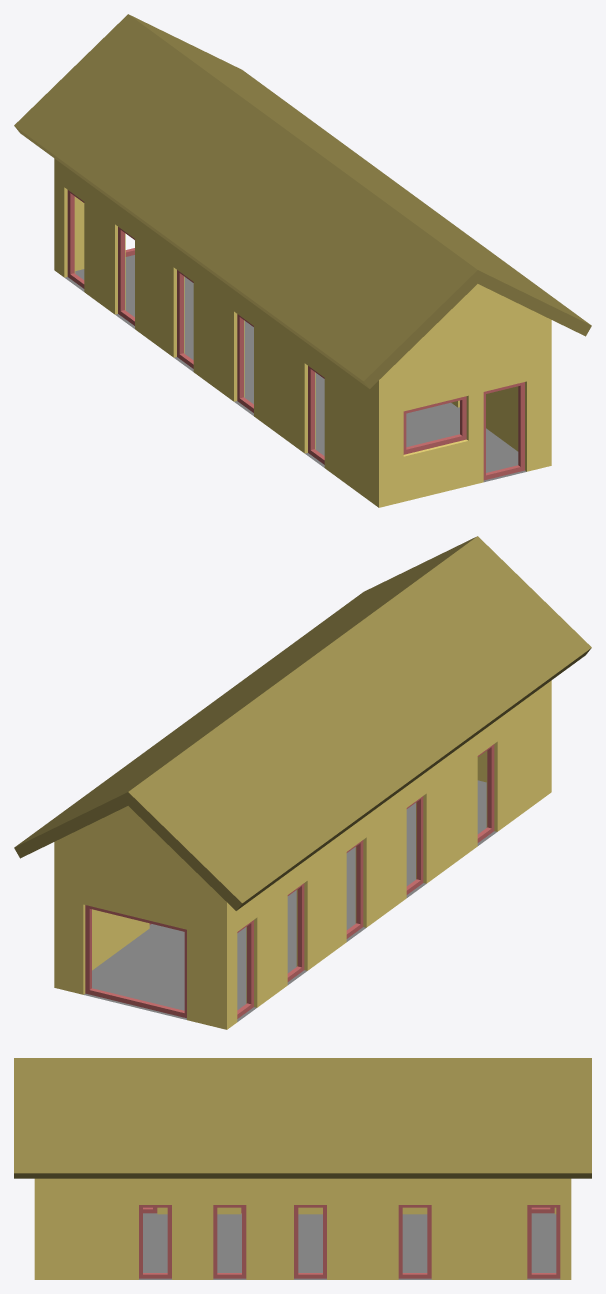
File: result.glb
3 views of the same model, one above another, from view 1: azimuth 30°, elevation 25°; view 2: azimuth 150°, elevation 25°; view 3: azimuth 270°, elevation 25° (orthographic). The views are drawn at different scales.
Visible parts, largest first — view 1: 41815499-86b6-4156-85ab-670326ad98f0__undefined (×2), aaf12553-59d9-43bb-8440-869948ce58ce__undefined, 5c2ebc9b-4a5a-4d3f-8f01-dad4f4e5c084__Plane_14, 518e9905-622d-455c-9b92-45f9aecd9768__Box, b099e5c9-68d0-460c-9a98-3436d6573400__Box_3, a8a90c60-50b3-4aef-8c51-89489cf56996__Box_24, e881f13f-bfbb-420c-8dbd-11038214746d__Box_12, 74c8e104-f30e-47a4-9459-ab0391607f66__Box_15, 7c4d29d4-8f15-4b16-85c8-d1fc798aa829__Box_18, dc48aefd-cc75-48ee-bffd-98909f0552b6__Box_21; view 2: 41815499-86b6-4156-85ab-670326ad98f0__undefined (×2), aaf12553-59d9-43bb-8440-869948ce58ce__undefined, 5c2ebc9b-4a5a-4d3f-8f01-dad4f4e5c084__Plane_14, ea1715e9-2808-4445-b68d-d89b8b6a0af7__Box_9, e881f13f-bfbb-420c-8dbd-11038214746d__Box_12, 74c8e104-f30e-47a4-9459-ab0391607f66__Box_15, 7c4d29d4-8f15-4b16-85c8-d1fc798aa829__Box_18, dc48aefd-cc75-48ee-bffd-98909f0552b6__Box_21, a8a90c60-50b3-4aef-8c51-89489cf56996__Box_24; view 3: 41815499-86b6-4156-85ab-670326ad98f0__undefined, aaf12553-59d9-43bb-8440-869948ce58ce__undefined, 5c2ebc9b-4a5a-4d3f-8f01-dad4f4e5c084__Plane_14, a20c8a6a-15bf-428f-85df-d9dea955f8be__Box_30, d480364f-2024-4bf5-b4f1-77a5a7c068ae__Box_36, e1056fd5-c555-435c-b24d-ad0dd5e74b1f__Box_39, 950b4d79-ad07-495a-a16b-4d6fa6ace761__Box_27, 86527675-a2cd-433f-af07-a26cdb83da12__Box_33.
Boxes of the visible parts, left/top/right/bottom form: 41815499-86b6-4156-85ab-670326ad98f0__undefined (×2): left=14, top=14, right=591, bottom=388; aaf12553-59d9-43bb-8440-869948ce58ce__undefined: left=54, top=158, right=551, bottom=507; 5c2ebc9b-4a5a-4d3f-8f01-dad4f4e5c084__Plane_14: left=65, top=255, right=526, bottom=482; 518e9905-622d-455c-9b92-45f9aecd9768__Box: left=483, top=382, right=524, bottom=480; b099e5c9-68d0-460c-9a98-3436d6573400__Box_3: left=403, top=396, right=466, bottom=454; a8a90c60-50b3-4aef-8c51-89489cf56996__Box_24: left=67, top=190, right=84, bottom=288; e881f13f-bfbb-420c-8dbd-11038214746d__Box_12: left=308, top=366, right=324, bottom=464; 74c8e104-f30e-47a4-9459-ab0391607f66__Box_15: left=237, top=314, right=253, bottom=412; 7c4d29d4-8f15-4b16-85c8-d1fc798aa829__Box_18: left=177, top=270, right=193, bottom=368; dc48aefd-cc75-48ee-bffd-98909f0552b6__Box_21: left=118, top=227, right=134, bottom=325; 41815499-86b6-4156-85ab-670326ad98f0__undefined (×2): left=14, top=536, right=591, bottom=910; aaf12553-59d9-43bb-8440-869948ce58ce__undefined: left=54, top=680, right=551, bottom=1029; 5c2ebc9b-4a5a-4d3f-8f01-dad4f4e5c084__Plane_14: left=84, top=780, right=496, bottom=1021; ea1715e9-2808-4445-b68d-d89b8b6a0af7__Box_9: left=85, top=905, right=186, bottom=1018; e881f13f-bfbb-420c-8dbd-11038214746d__Box_12: left=477, top=744, right=494, bottom=842; 74c8e104-f30e-47a4-9459-ab0391607f66__Box_15: left=406, top=796, right=423, bottom=894; 7c4d29d4-8f15-4b16-85c8-d1fc798aa829__Box_18: left=346, top=840, right=363, bottom=938; dc48aefd-cc75-48ee-bffd-98909f0552b6__Box_21: left=287, top=883, right=304, bottom=981; a8a90c60-50b3-4aef-8c51-89489cf56996__Box_24: left=237, top=920, right=253, bottom=1018; 41815499-86b6-4156-85ab-670326ad98f0__undefined: left=14, top=1058, right=591, bottom=1178; aaf12553-59d9-43bb-8440-869948ce58ce__undefined: left=34, top=1178, right=571, bottom=1279; 5c2ebc9b-4a5a-4d3f-8f01-dad4f4e5c084__Plane_14: left=139, top=1213, right=560, bottom=1279; a20c8a6a-15bf-428f-85df-d9dea955f8be__Box_30: left=213, top=1205, right=246, bottom=1278; d480364f-2024-4bf5-b4f1-77a5a7c068ae__Box_36: left=398, top=1205, right=431, bottom=1278; e1056fd5-c555-435c-b24d-ad0dd5e74b1f__Box_39: left=527, top=1205, right=560, bottom=1278; 950b4d79-ad07-495a-a16b-4d6fa6ace761__Box_27: left=139, top=1205, right=171, bottom=1278; 86527675-a2cd-433f-af07-a26cdb83da12__Box_33: left=294, top=1205, right=326, bottom=1278.
Size of the model in its own units: 529 by 500 by 1402.
